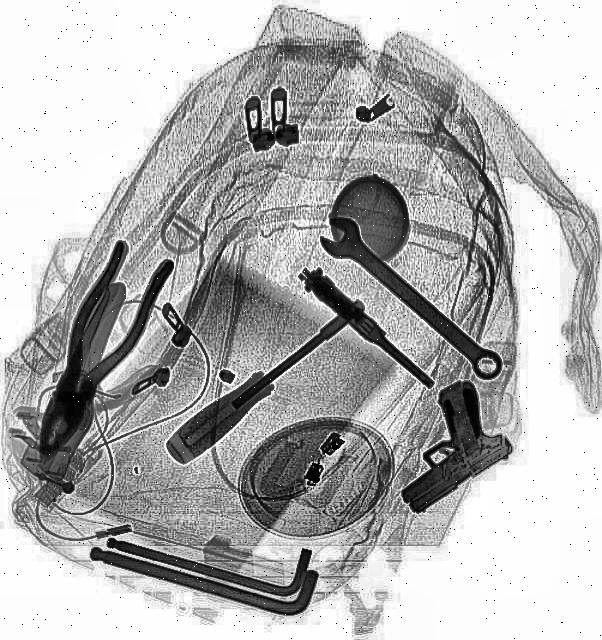Gun: (362, 372, 520, 518)
Pliers: (16, 238, 172, 470)
Wrench: (310, 208, 510, 390)
